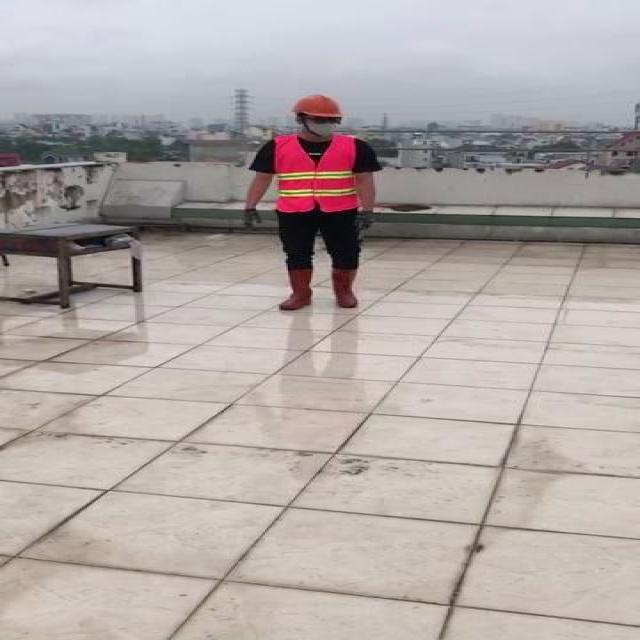boots: (274, 265, 313, 310), (331, 268, 361, 308)
face_mask: (308, 115, 343, 137)
glasses: (308, 114, 344, 126)
hand_glove: (355, 210, 377, 232), (242, 208, 260, 226)
head_helmet: (290, 93, 346, 117)
person: (239, 90, 387, 314)
vest: (278, 135, 358, 210)
